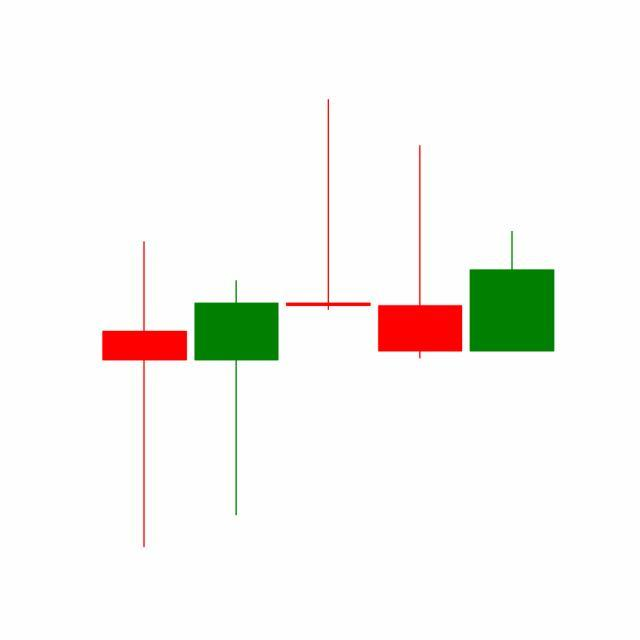Gravestone Doji: (374, 143, 468, 361)
